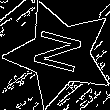N_E: (29, 28, 91, 80)
